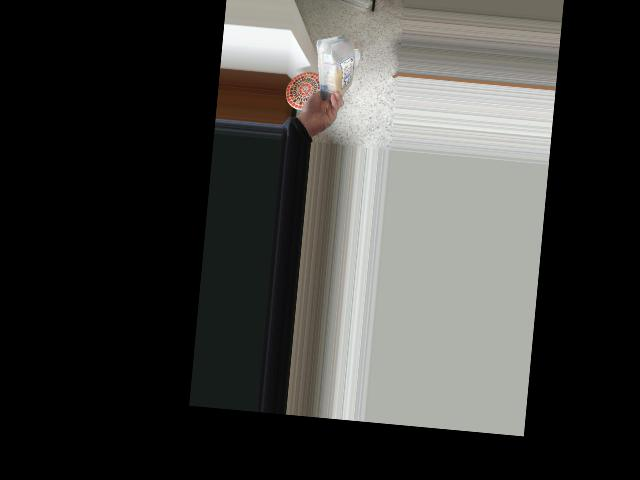cheese: (314, 32, 357, 101)
